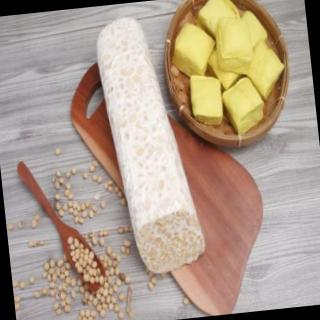Tempe: (91, 8, 209, 279)
